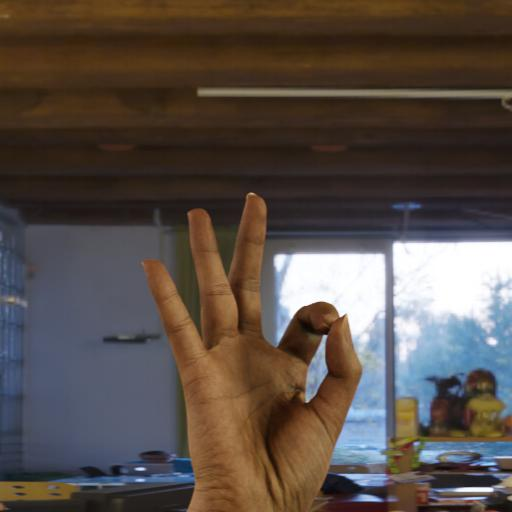F: (140, 188, 367, 512)
